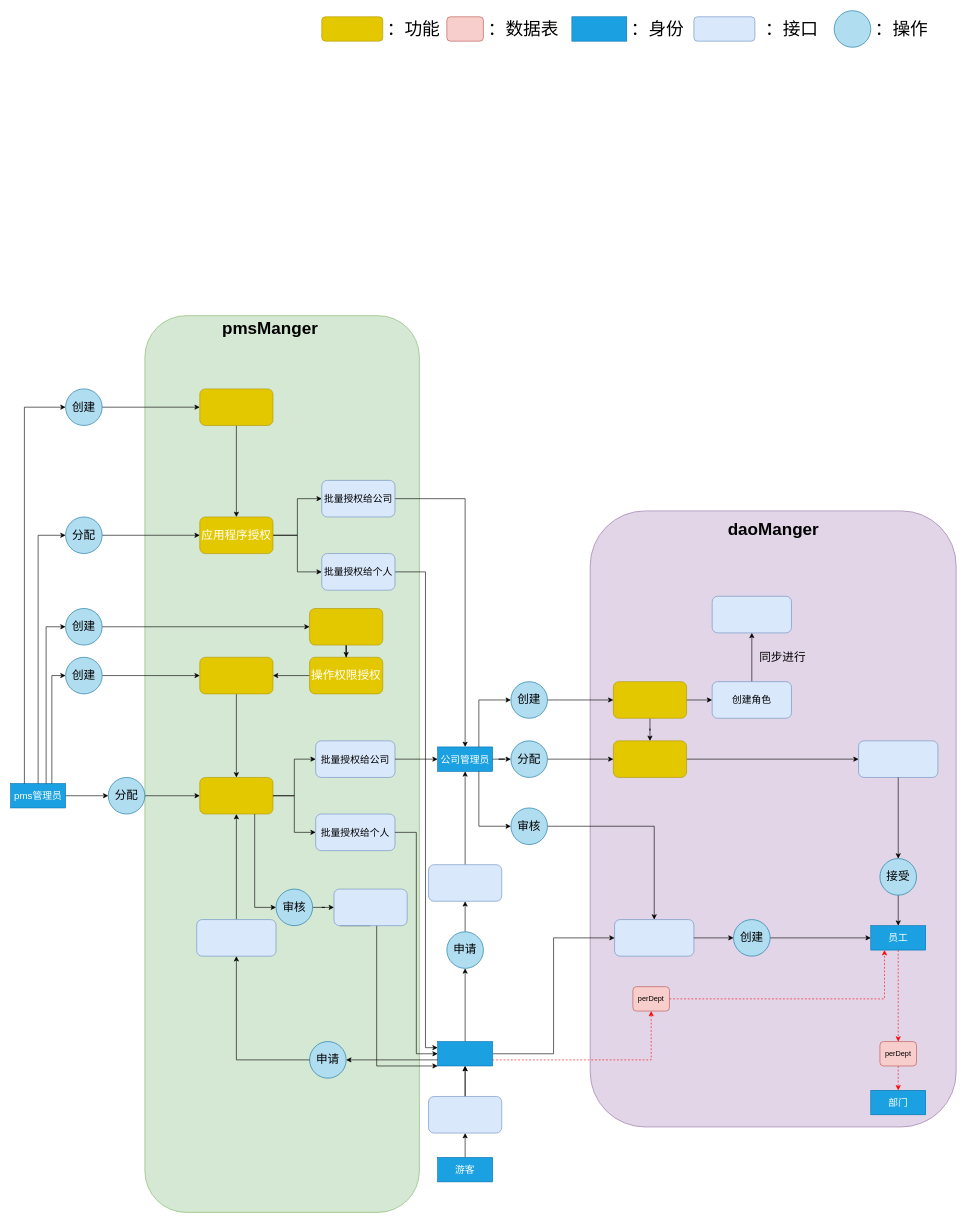
This 967x1223 diagram has some shape labels left out. Here are the shapes that lost their labels. From the top down, the centre of each, then its label:
point 236,406: 应用程序
point 346,626: 操作权限
point 751,614: 给角色分配菜单
point 236,675: 菜单
point 650,699: 角色
point 650,758: 角色授权
point 898,758: 将角色分配到员工
point 236,795: 菜单授权
point 465,882: 提交入职申请
point 370,907: 审核菜单授权
point 236,937: 申请菜单授权
point 654,937: 个人通过公司审核
point 465,1053: 个人
point 465,1114: 注册账号
